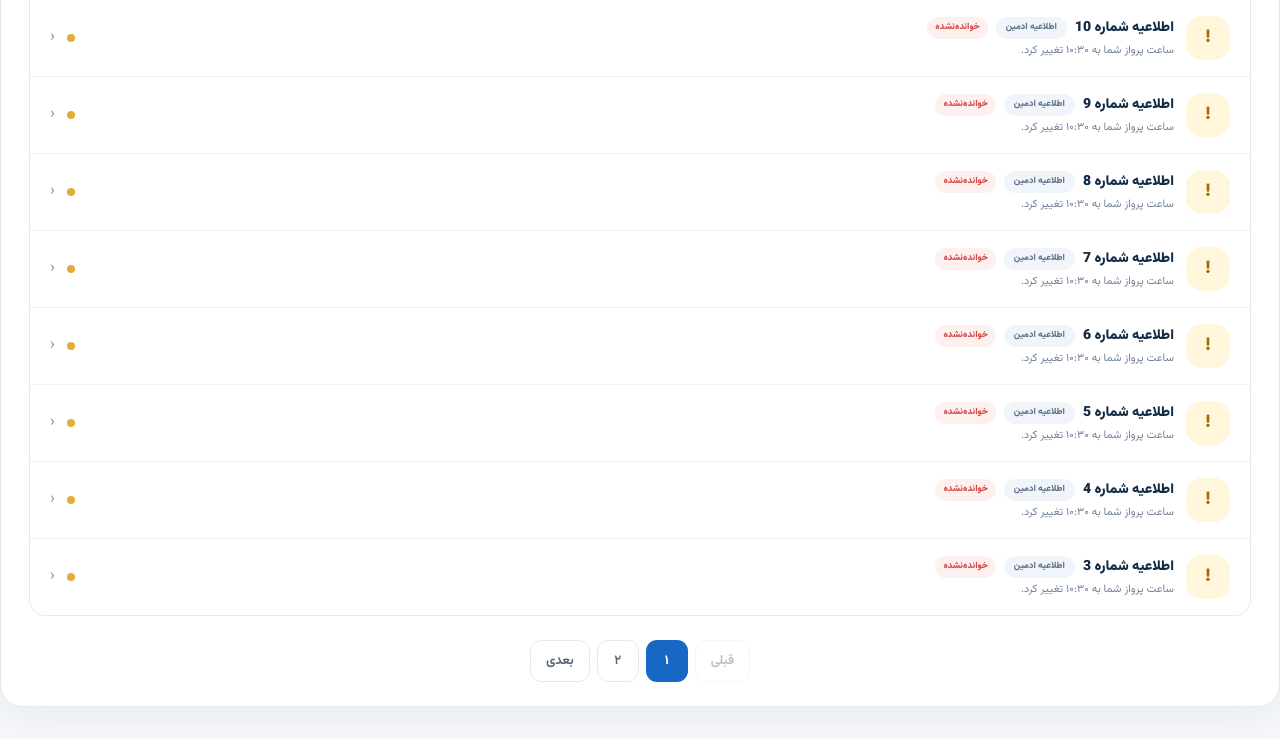
AgencyNoticesPage › shows exactly ten records per page and paginates the remaining agency notices
(page scrolled)
Expected: the text "اطلاعیه شماره 2" is not shown
Click the button "بعدی" at (560, 661), box [530,640,590,682]
(page scrolled)
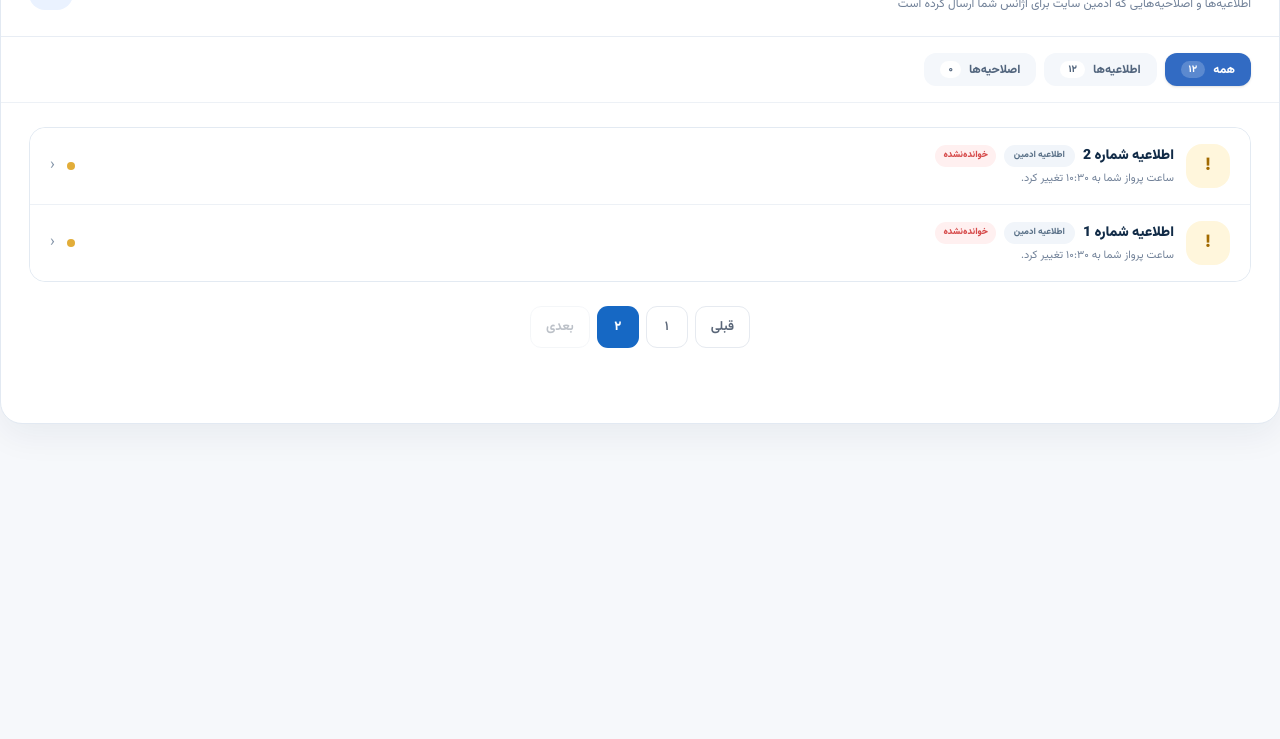
Now the text "اطلاعیه شماره 2" is shown, box [1083,146,1174,166]
